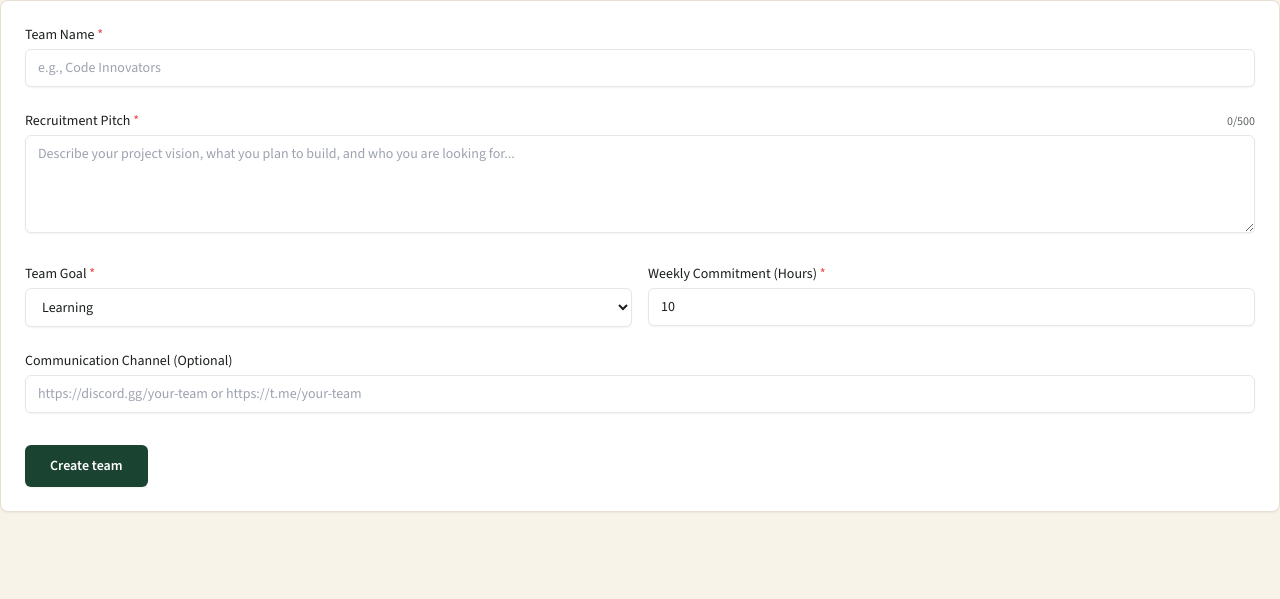
Scenario: TeamListingForm component tests (US-012 / Task 8 / #125) › preserves all entered values when server rejects with an error (NR-010)
Type "Unique Team Name" into the field labelled "Team Name *" at [640, 68], box [25,49,1255,87]
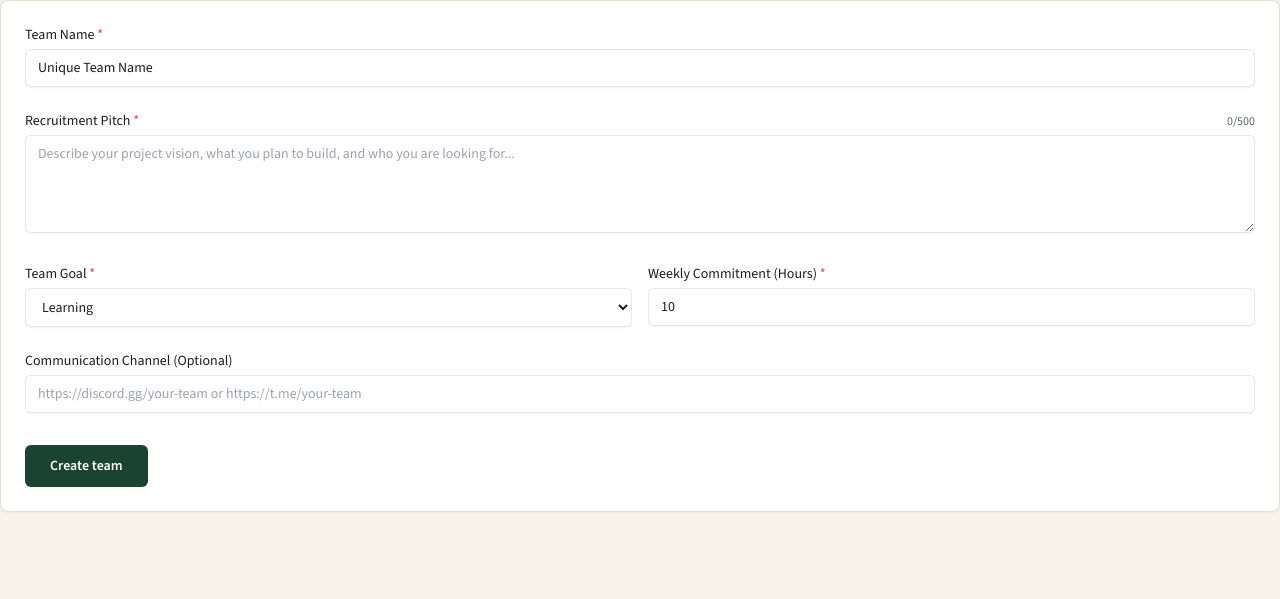
Replace the text in the text box labelled "Recruitment Pitch *" with "Unique recruitment pitch description" at [640, 184], box [25,135,1255,233]
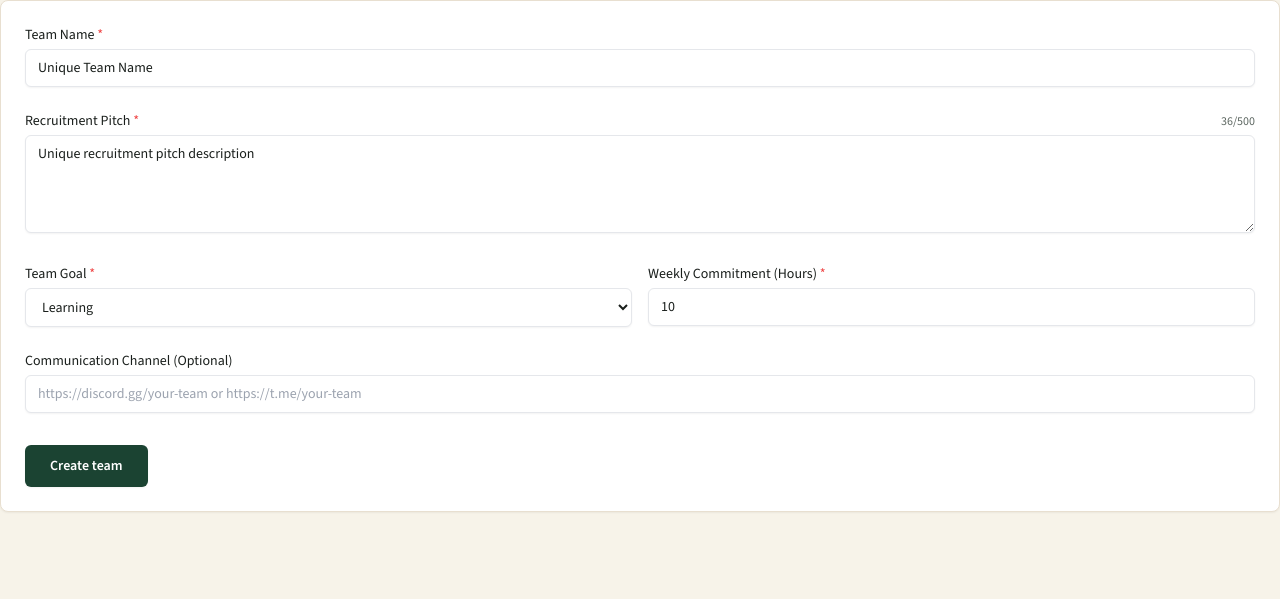
Click the button "Create team" at [86, 466], box [25,445,148,487]
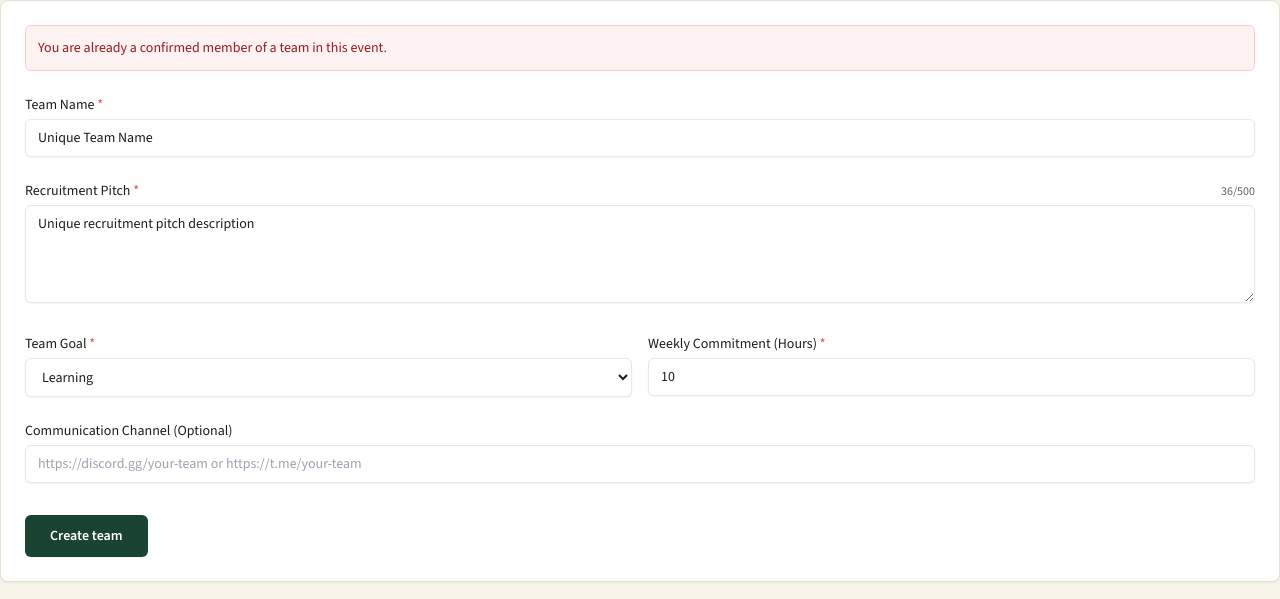
Expected: the text "You are already a confirmed member of a team in this event." is shown, [25,25,1255,71]
